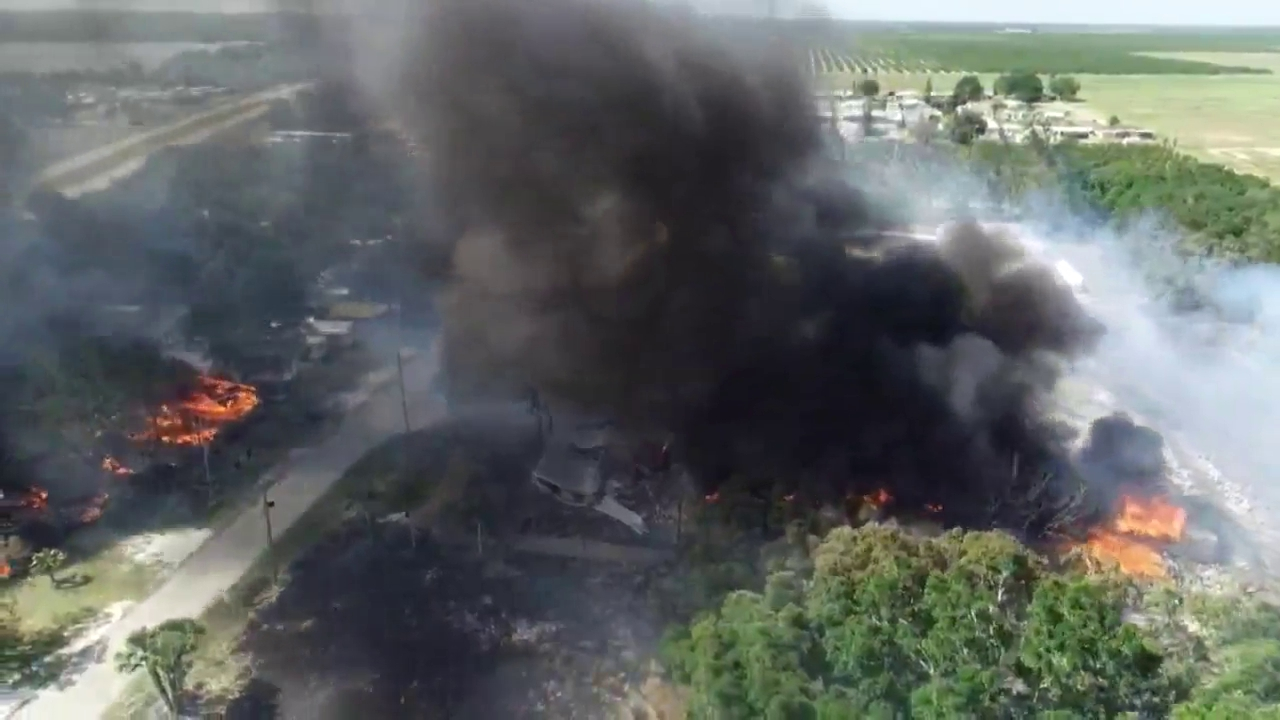forest_fire: (1075, 490, 1185, 576), (131, 374, 259, 444), (102, 454, 134, 474), (862, 488, 892, 509)
